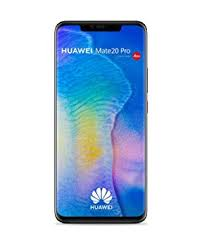huawei: (50, 16, 149, 224)
